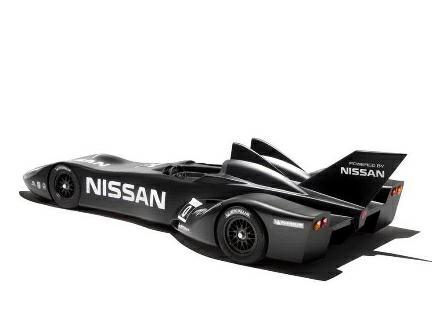日产-DeltaWing: (17, 134, 408, 274)
